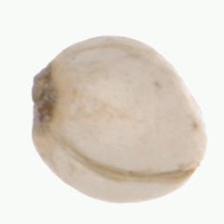L1: (30, 61, 55, 137), (193, 126, 209, 188)
L2: (28, 34, 208, 204)
